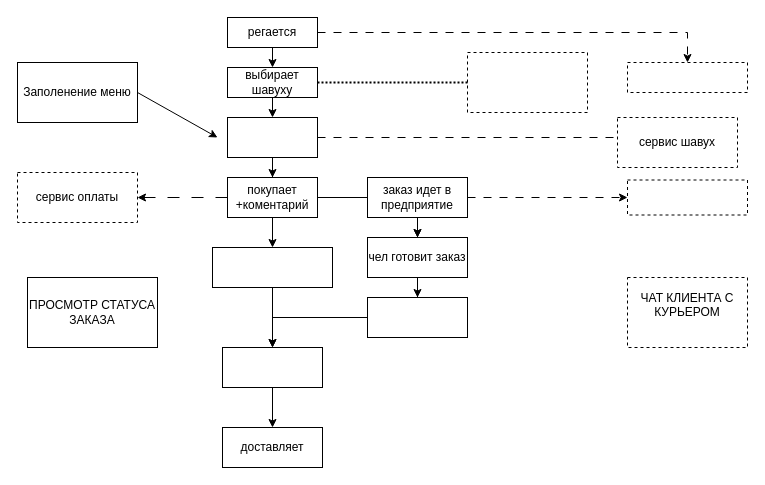
The diagram is 765 pixels wide and 485 high, and some of its shapes have lost their labels. Each missing label, with the centre of its shape:
вибрает адрес: point (272, 137)
курьер принимает: point (272, 367)
курьер узнает о заказе: point (272, 267)
оповещает что приготовил: point (417, 317)
сервис предпрития: point (687, 197)
сервис реганья: point (687, 77)
